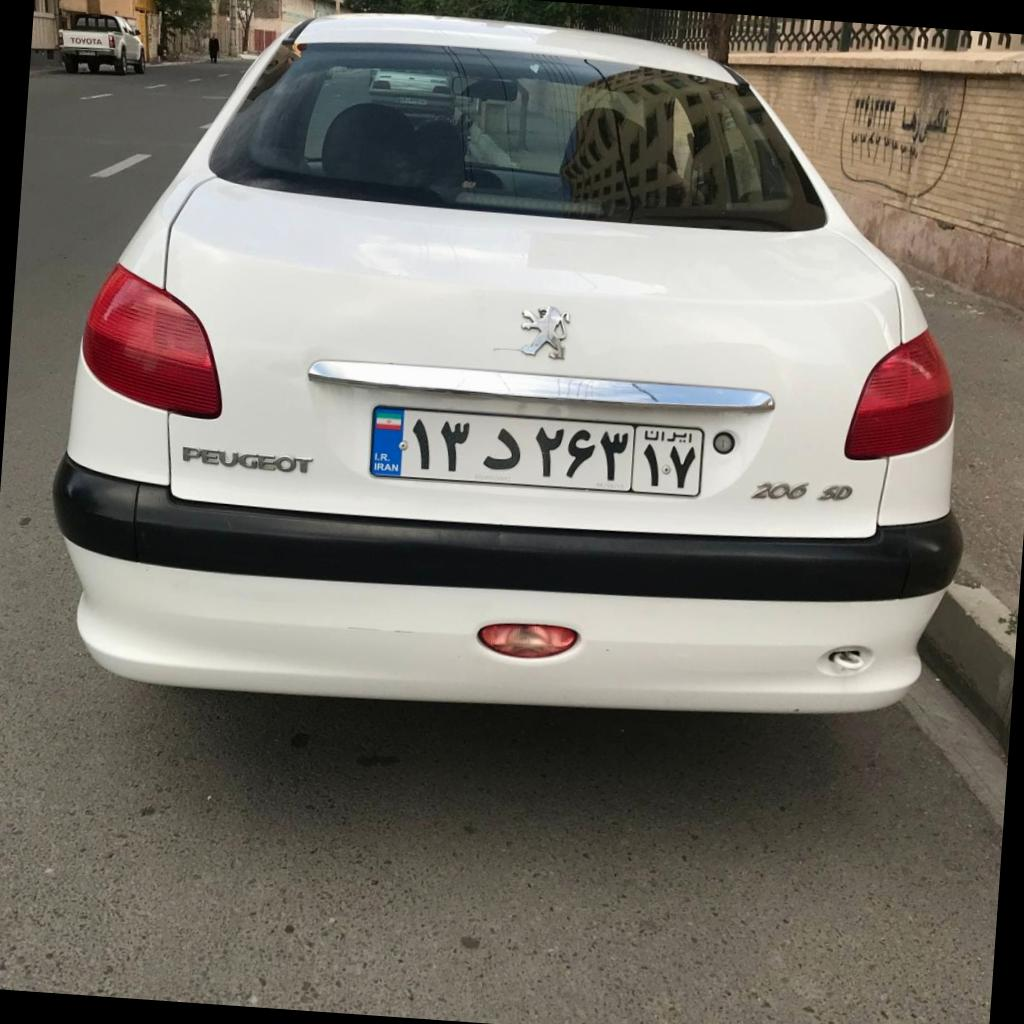Plates: (370, 405, 703, 496)
